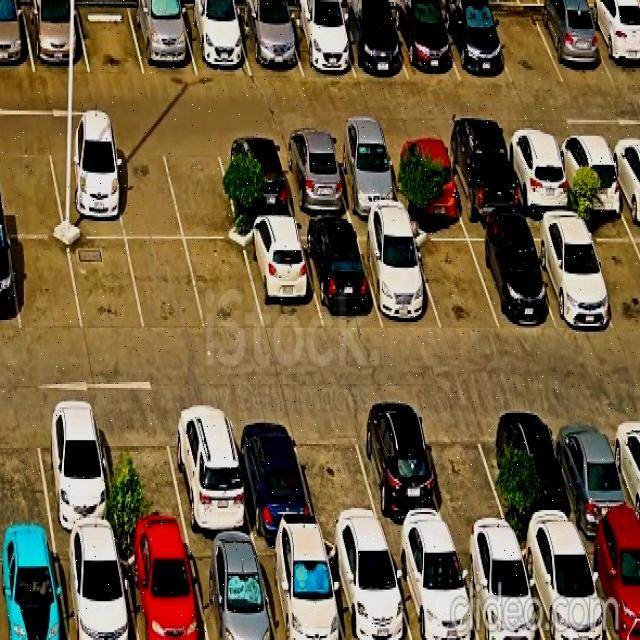empty: (419, 407, 512, 537), (291, 410, 384, 537), (99, 407, 188, 537), (410, 226, 499, 329), (162, 138, 240, 239), (108, 140, 183, 238), (68, 239, 144, 333), (185, 241, 264, 331), (127, 240, 205, 331), (9, 237, 83, 332), (0, 406, 52, 536), (582, 219, 640, 332), (0, 138, 65, 235), (485, 7, 563, 85), (76, 3, 144, 75)
occupied: (352, 408, 451, 538), (165, 405, 254, 537), (549, 406, 640, 534), (228, 408, 317, 536), (494, 405, 580, 536), (34, 405, 119, 536), (517, 534, 610, 640), (525, 219, 616, 325), (453, 538, 545, 640), (388, 538, 479, 640), (465, 226, 555, 328), (186, 540, 277, 640), (354, 225, 441, 329), (323, 539, 412, 640), (255, 539, 344, 640), (119, 539, 207, 640), (241, 225, 323, 332), (299, 224, 382, 327), (55, 538, 137, 640), (47, 139, 125, 238), (0, 538, 68, 640), (441, 137, 522, 219), (217, 138, 295, 221), (581, 531, 640, 640), (385, 138, 463, 217), (276, 139, 352, 219), (533, 7, 613, 83), (328, 138, 405, 216), (502, 134, 576, 213), (554, 133, 627, 212), (439, 5, 512, 82), (389, 4, 460, 81), (336, 8, 408, 79), (180, 6, 251, 76), (129, 4, 197, 76), (284, 10, 355, 78), (22, 4, 89, 73), (236, 10, 302, 76), (584, 9, 640, 83), (0, 4, 34, 72), (0, 233, 20, 332)
